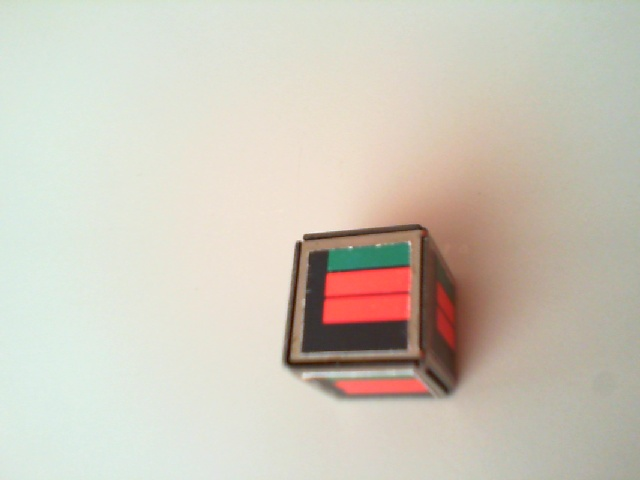square: (306, 245, 410, 351)
